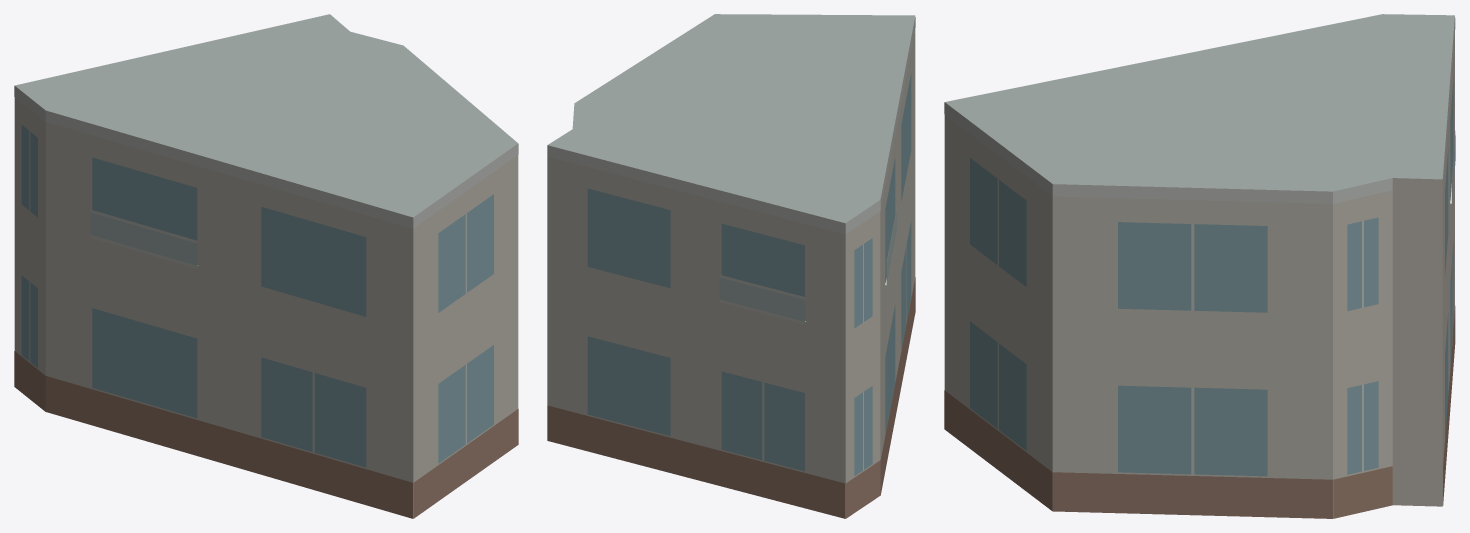
Rendered from survey-upis-32500118.glb.
3 renders of one model, left to right at view 1: azimuth 30°, elevation 25°; view 2: azimuth 150°, elevation 25°; view 3: azimuth 270°, elevation 25°, orthographic. The views are drawn at different scales.
Visible parts, largest first — view 1: survey-upis-32500118.tmp; view 2: survey-upis-32500118.tmp; view 3: survey-upis-32500118.tmp.
Part boxes in pixels (x1,y1,x2,y2): survey-upis-32500118.tmp: (14, 14, 518, 518); survey-upis-32500118.tmp: (547, 14, 915, 518); survey-upis-32500118.tmp: (944, 14, 1455, 518).
Size of the model in its own units: 7.57 by 6.5 by 9.2.
